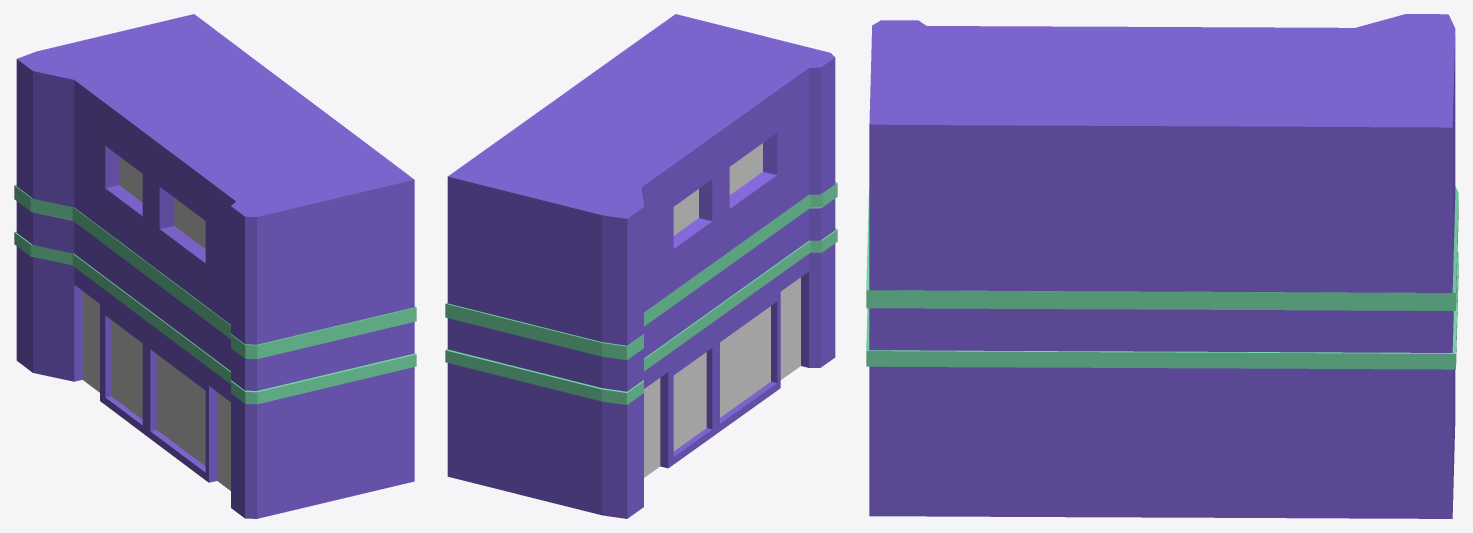
The model's file is FBX_LC_mHouse_12.fbx.
3 renders of one model, left to right at view 1: azimuth 30°, elevation 25°; view 2: azimuth 150°, elevation 25°; view 3: azimuth 270°, elevation 25°, orthographic. The views are drawn at different scales.
Visible parts, largest first — view 1: FBX_LC_mHouse_12; view 2: FBX_LC_mHouse_12; view 3: FBX_LC_mHouse_12.
Boxes of the visible parts, left/top/right/bottom form: FBX_LC_mHouse_12: left=14, top=14, right=416, bottom=518; FBX_LC_mHouse_12: left=445, top=14, right=837, bottom=518; FBX_LC_mHouse_12: left=866, top=14, right=1458, bottom=518.
Bounding box in the file's own units: 608 × 967 × 1326.
